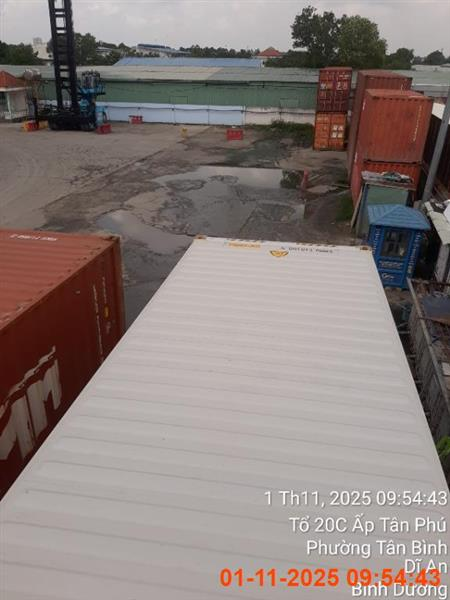broken: (0, 232, 449, 598)
